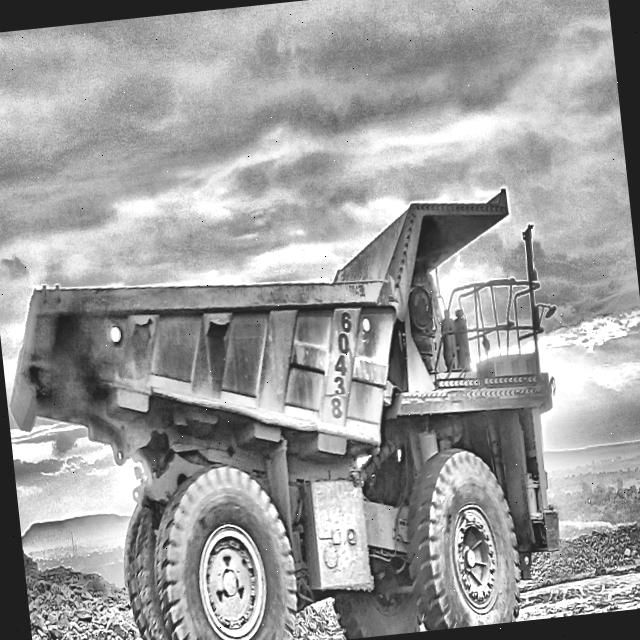dump_truck: (10, 189, 558, 640)
